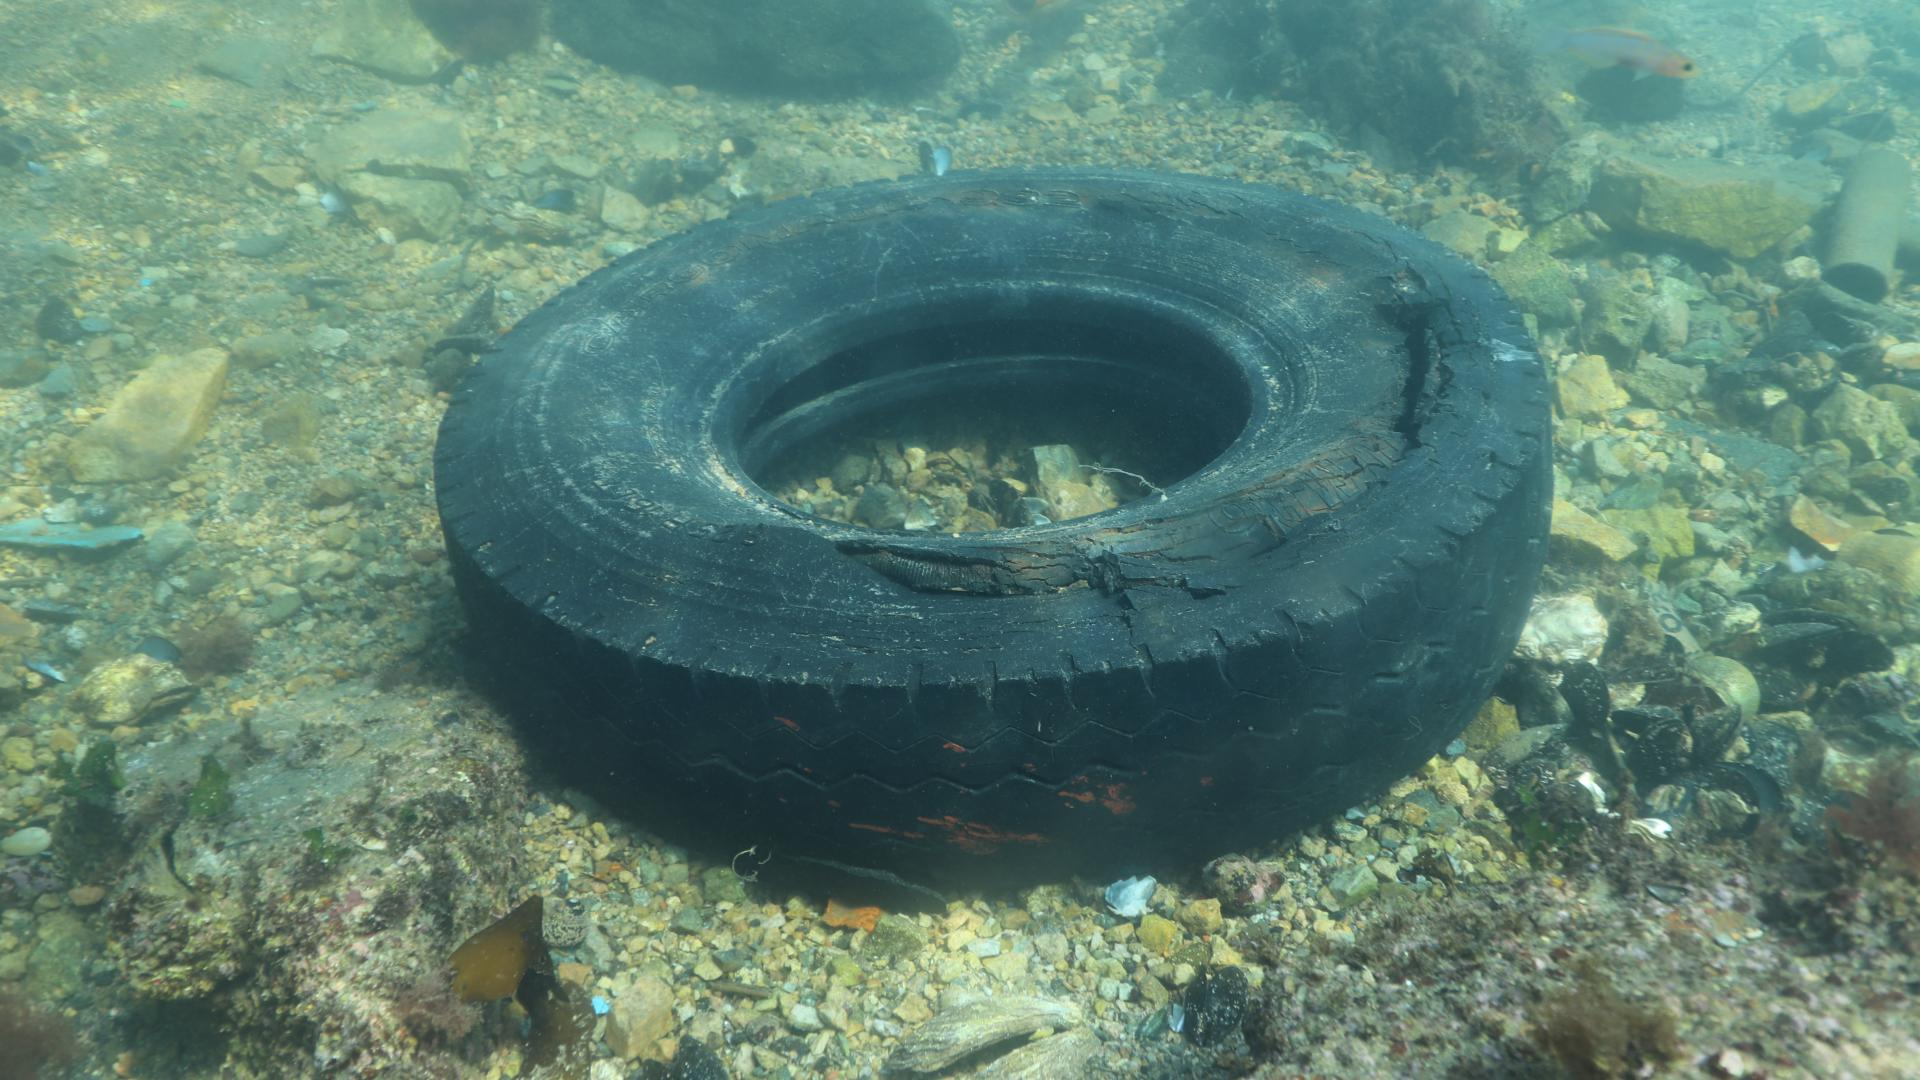tire: (429, 162, 1547, 902)
